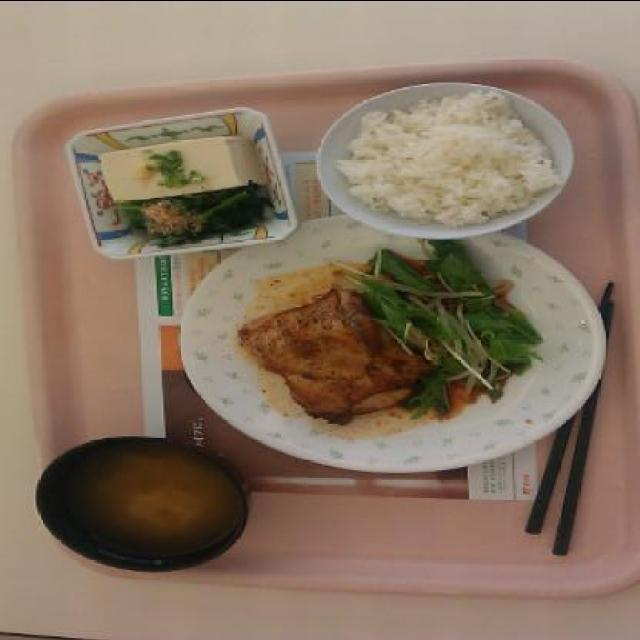Chicken roast: (249, 299, 403, 427)
Risotto: (367, 98, 539, 216)
